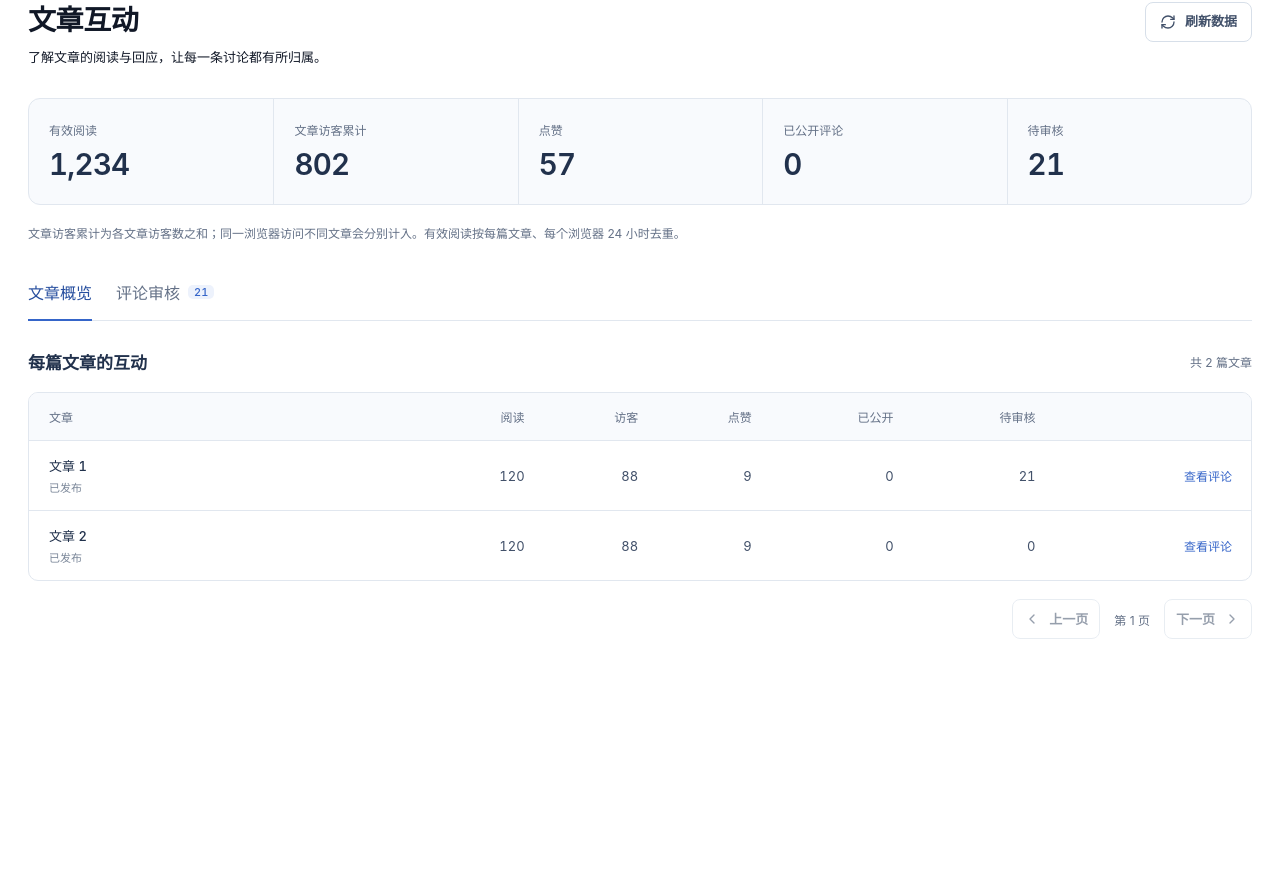
EngagementPage › requires deletion confirmation and returns to the previous page after deleting its last comment
Click the tab "评论审核 21": (165, 297) [116,272,214,321]
(page scrolled)
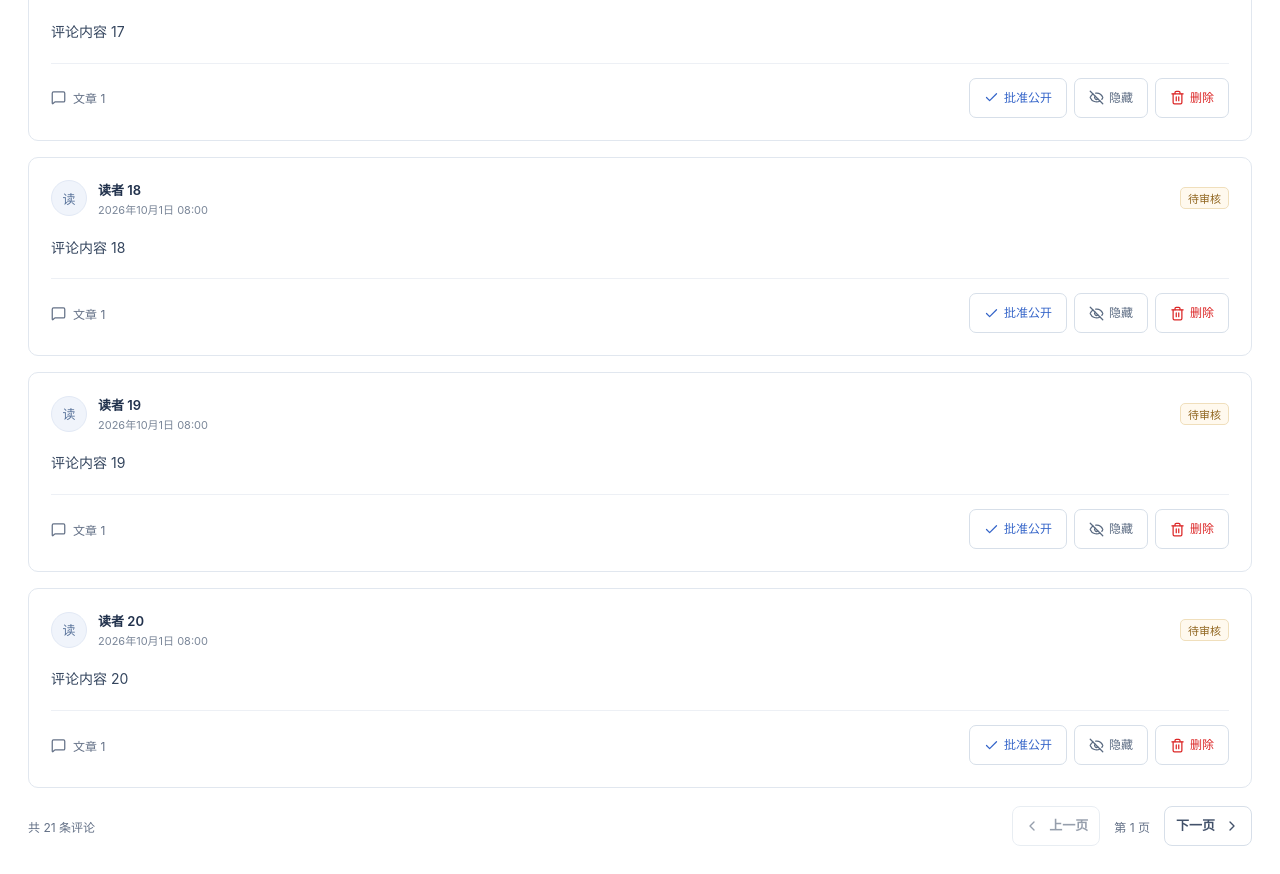
Click the button with aria-label "下一页评论": (1208, 826) [1164,806,1252,846]
(page scrolled)
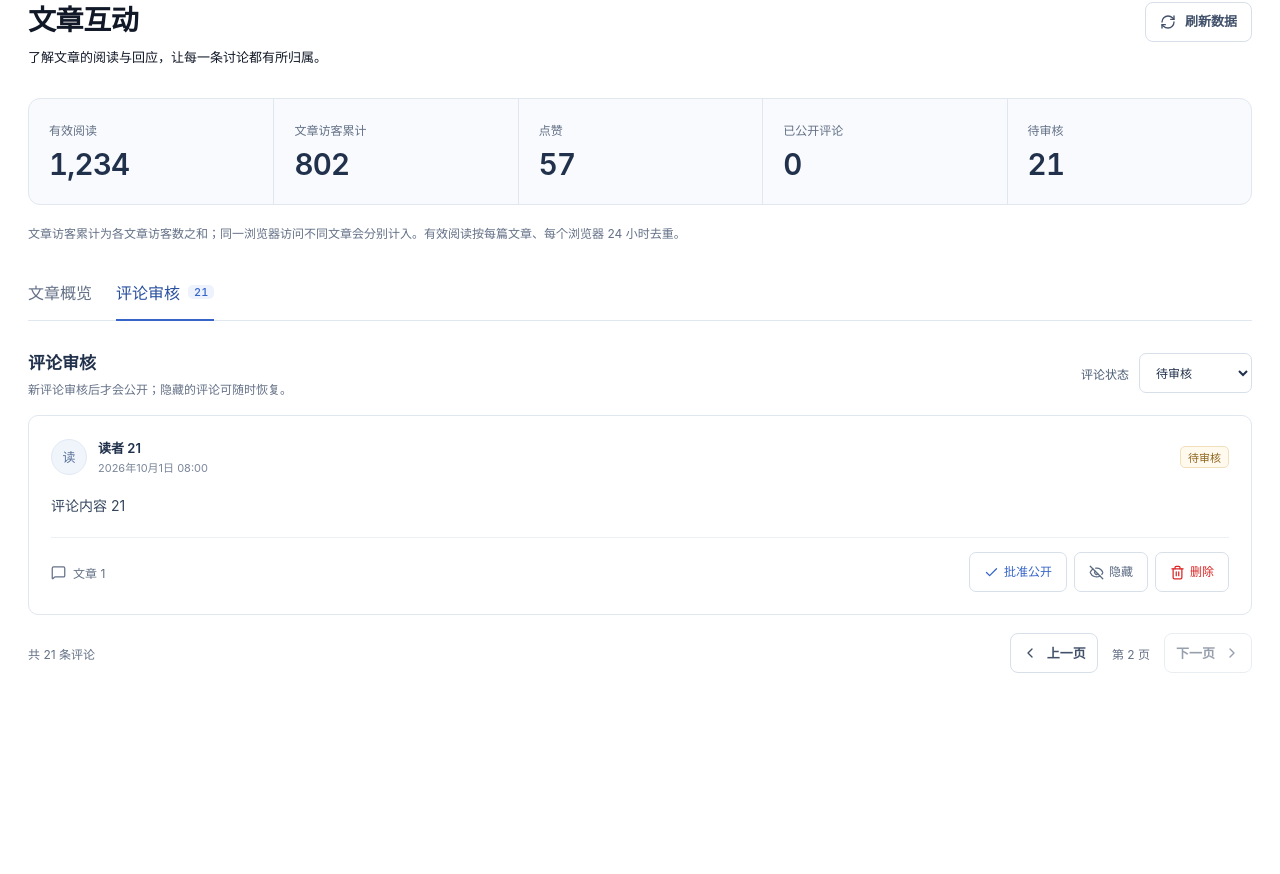
Expected: the text "评论内容 21" is shown, [51,497,125,514]
Click the button "删除": (1192, 572) [1155,552,1229,592]
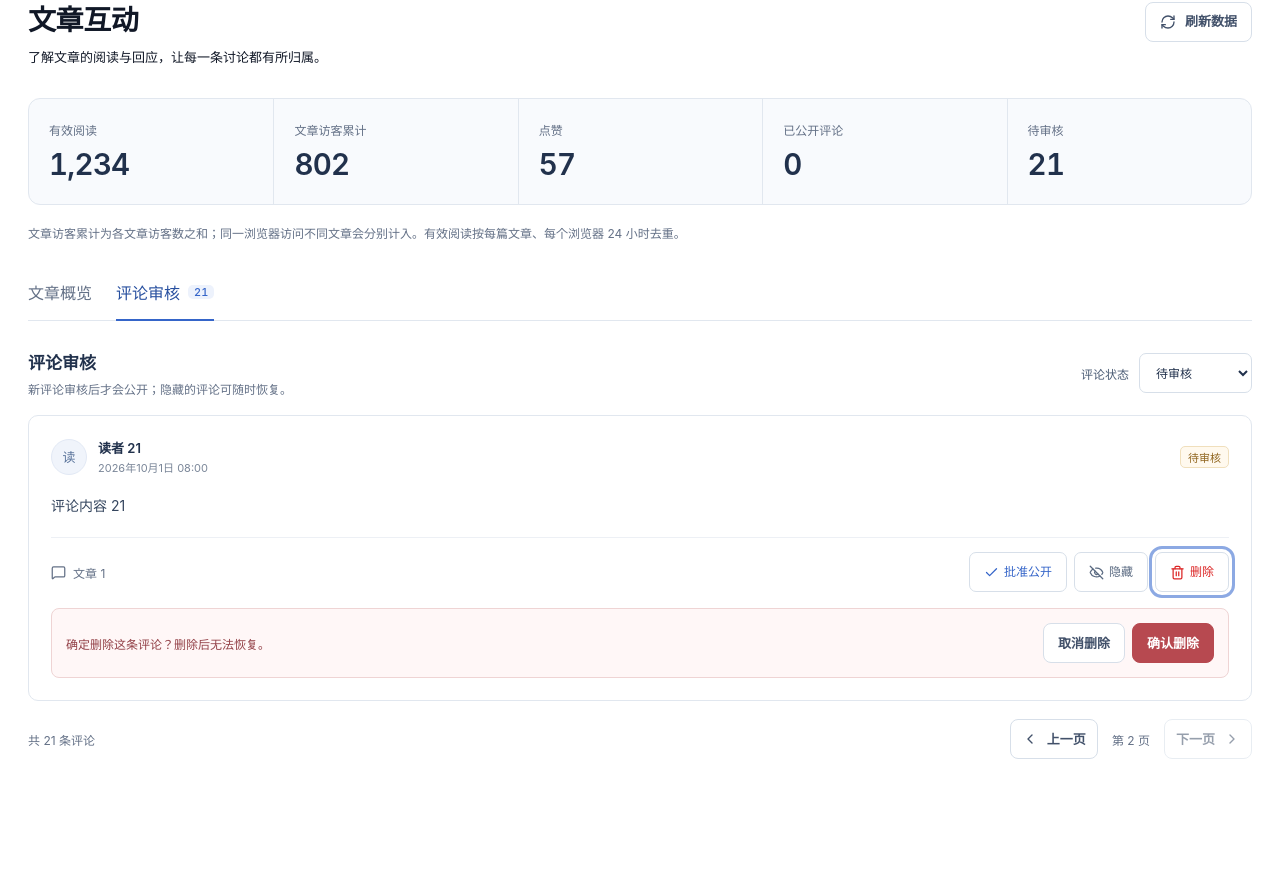
Expected: the text "确定删除这条评论？删除后无法恢复。" is shown, [66,635,270,652]
Click the button "取消删除": (1084, 643) [1043,623,1125,663]
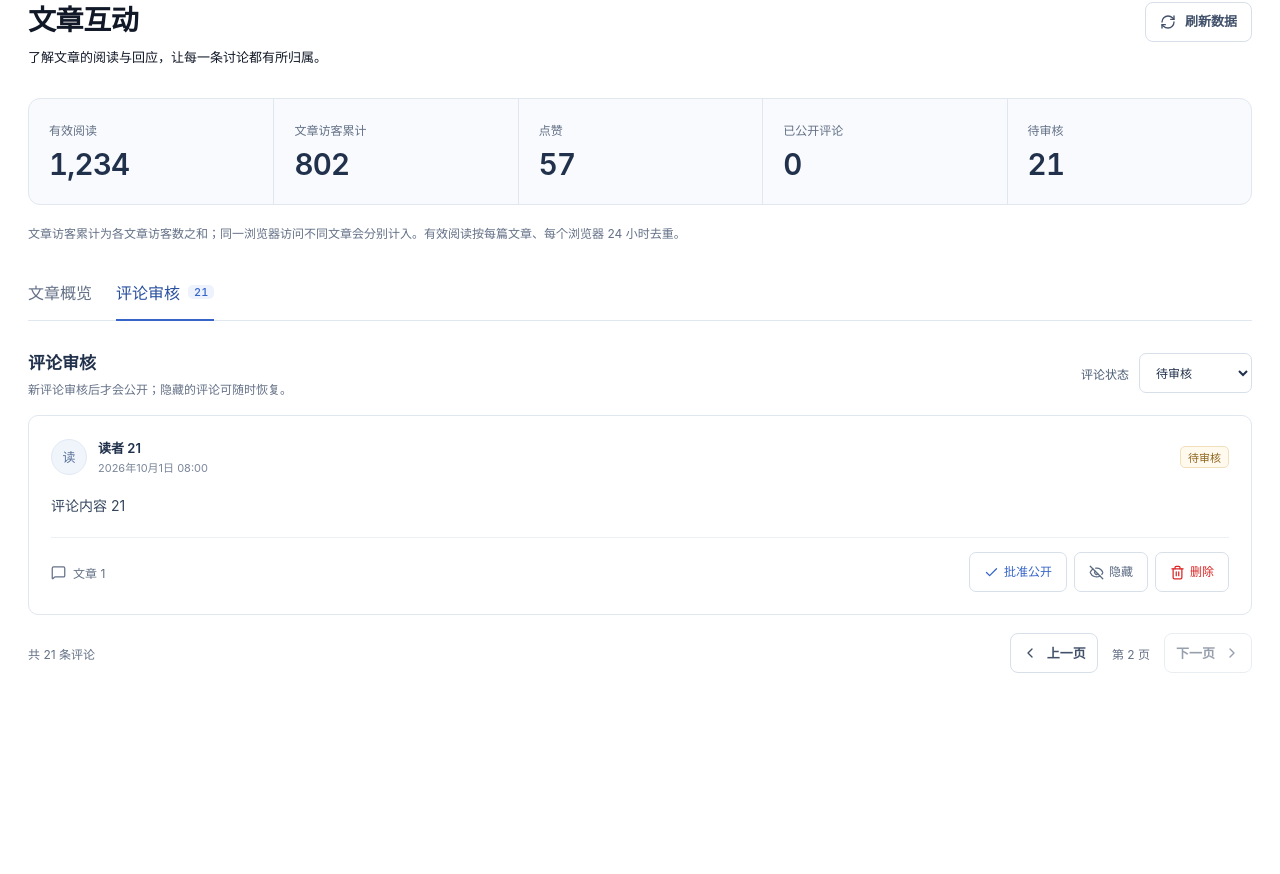
Expected: the button "确认删除" is gone
Click the button "删除": (1192, 572) [1155,552,1229,592]
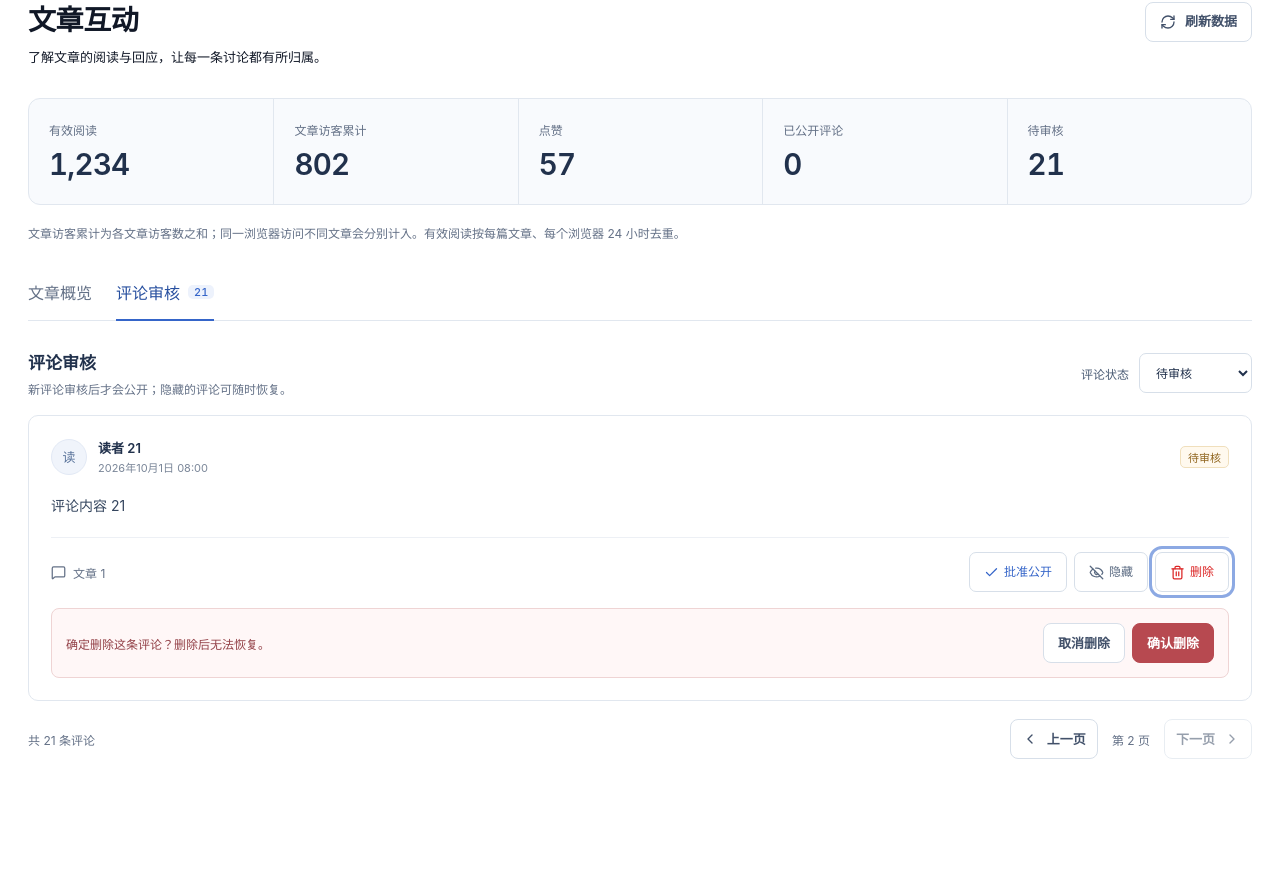
Click the button "确认删除": (1173, 643) [1132,623,1214,663]
(page scrolled)
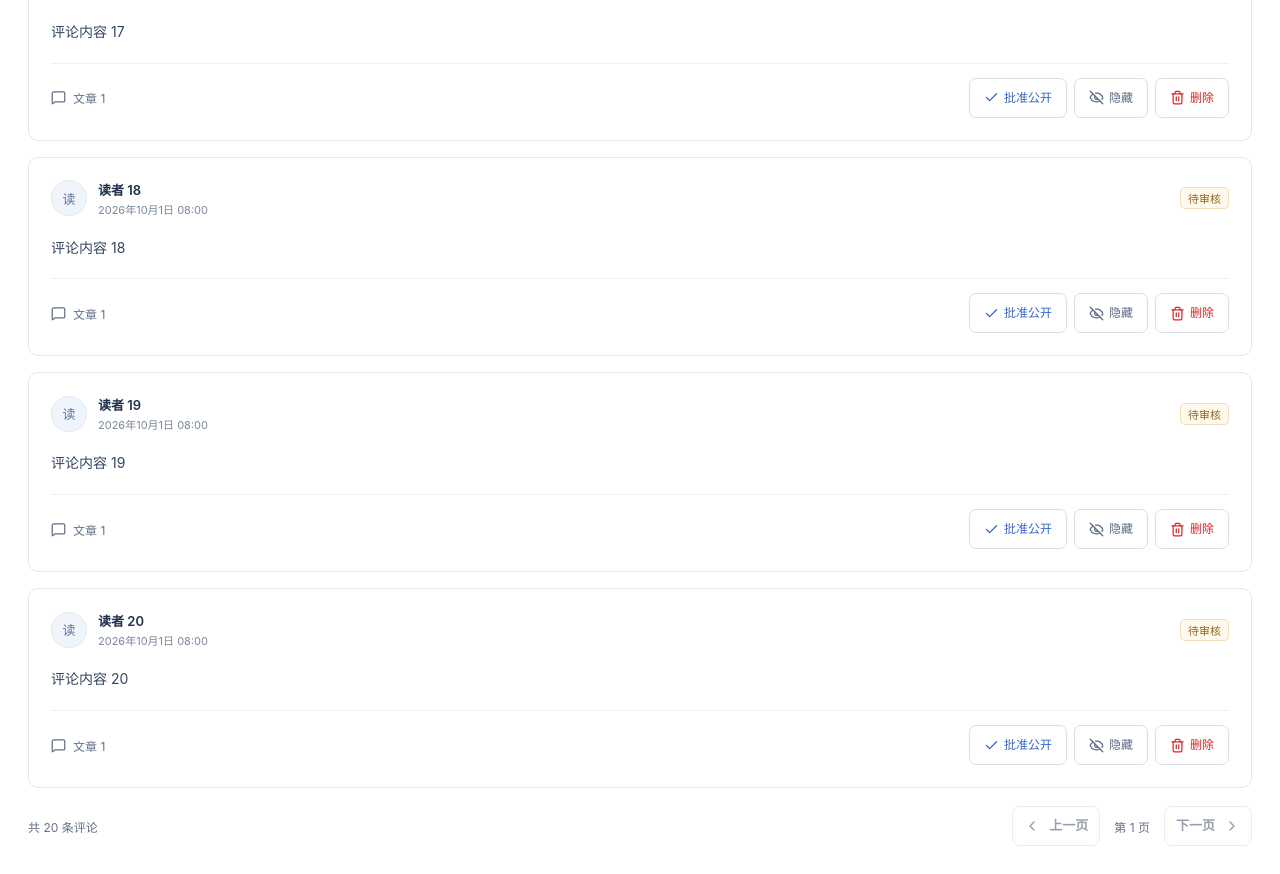
Expected: the text "评论内容 21" is gone
Expected: the button with aria-label "上一页评论" is disabled, [1012,806,1100,846]
Expected: the text "共 20 条评论" is shown, [28,818,98,835]
